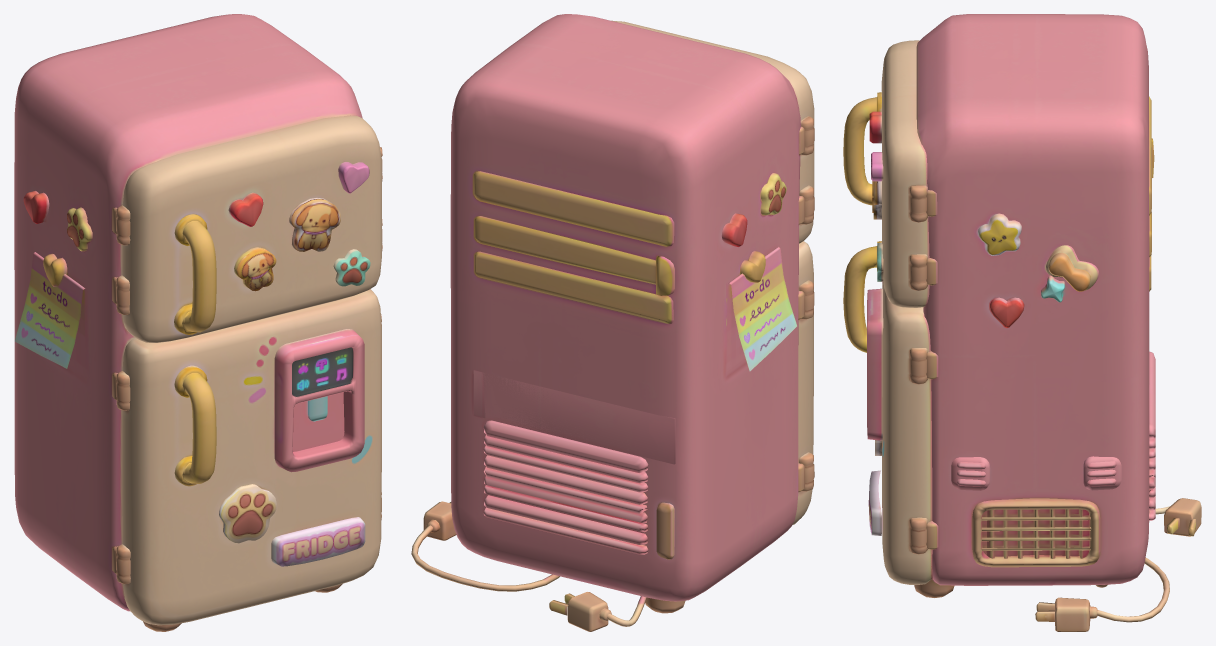
The model's file is cute fridge 3d model.glb.
3 views of the same model, side by side, from view 1: azimuth 30°, elevation 25°; view 2: azimuth 150°, elevation 25°; view 3: azimuth 270°, elevation 25° (orthographic). The views are drawn at different scales.
Parts seen in each view (by area): view 1: tripo_9b9412b5_ad5b_48d5_87f5_a41318f28596; view 2: tripo_9b9412b5_ad5b_48d5_87f5_a41318f28596; view 3: tripo_9b9412b5_ad5b_48d5_87f5_a41318f28596.
Boxes of the visible parts, <box> form: tripo_9b9412b5_ad5b_48d5_87f5_a41318f28596: <box>14,14,382,631</box>; tripo_9b9412b5_ad5b_48d5_87f5_a41318f28596: <box>411,14,814,631</box>; tripo_9b9412b5_ad5b_48d5_87f5_a41318f28596: <box>843,14,1201,631</box>.
Bounding box in the file's own units: 0.6753 × 0.9956 × 0.6548.
1 material, 1 textured.
